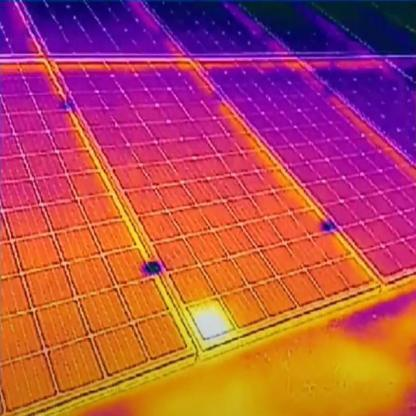anomaly: (185, 293, 236, 346)
